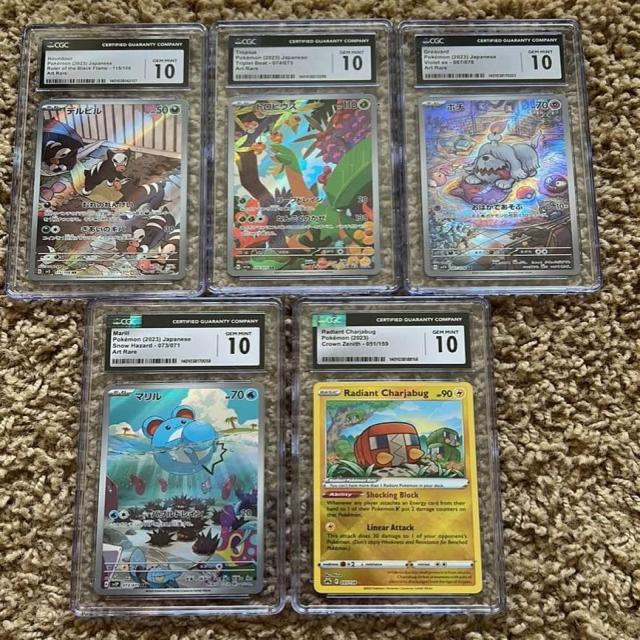card: (93, 381, 267, 597), (311, 381, 484, 594), (417, 93, 582, 277), (26, 98, 188, 282), (225, 92, 381, 277)
